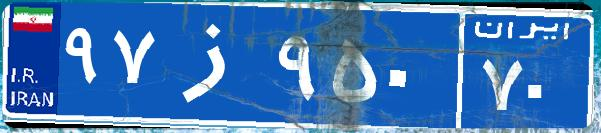0: (385, 28, 445, 110), (525, 38, 570, 115)
5: (330, 28, 385, 110)
7: (475, 38, 525, 113), (110, 28, 158, 105)
9: (273, 28, 330, 110), (57, 26, 110, 107)
ز: (158, 15, 273, 115)
